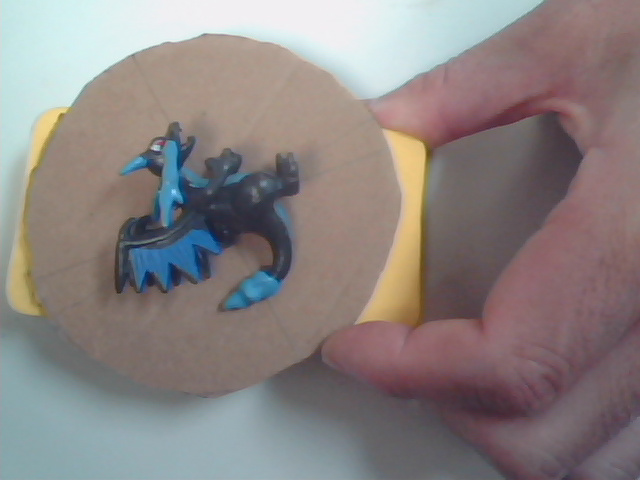charizard: (98, 110, 336, 338)
